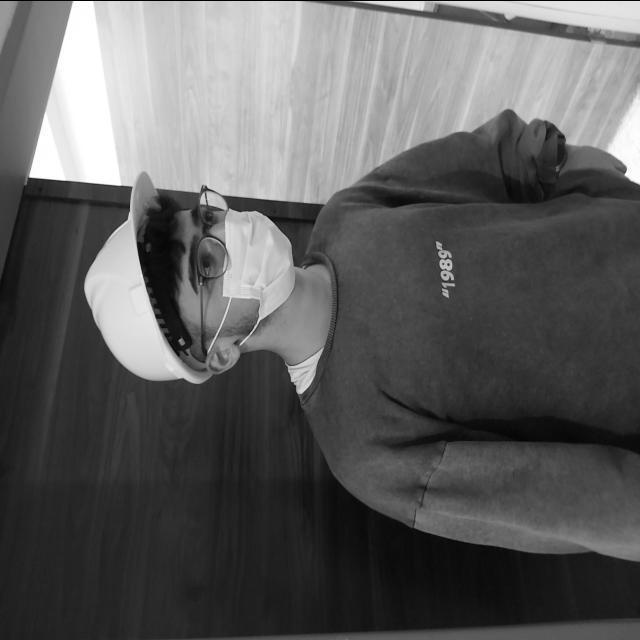safety_helmet: (85, 168, 205, 382)
